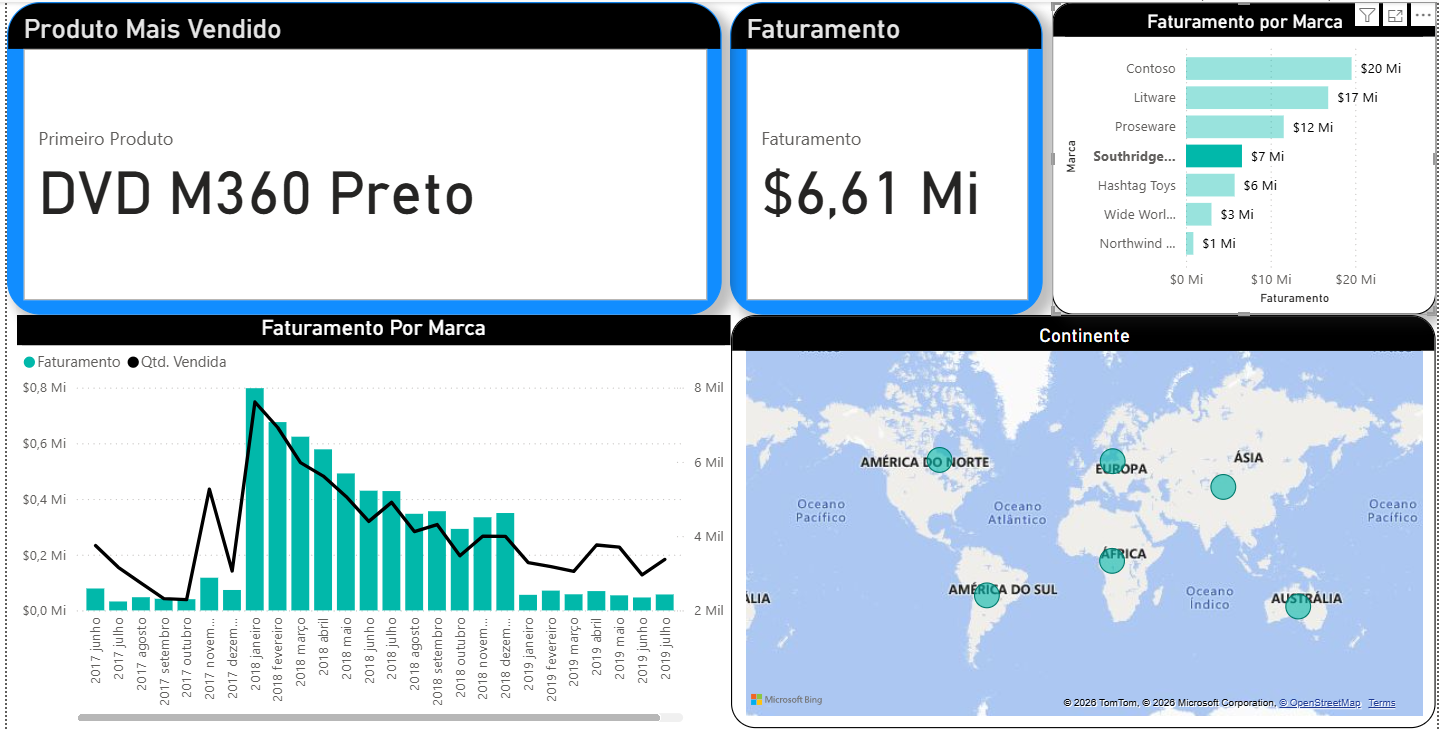

What the dashboard file says about the page in this screenshot:
{"tool":"powerbi","page":{"name":"Relatório de Vendas","canvas":[1280,720],"ordinal":0},"visuals":[{"type":"cardVisual","title":"Faturamento","fields":{"Data":["Sum(BaseVendas.Faturamento)"]},"box":[647.5,0,280.3,280.3],"z":0},{"type":"barChart","fields":{"Y":["Sum(BaseVendas.Faturamento)"],"Category":["BaseVendas.Marca"]},"box":[935.8,0,343.9,280.3],"z":1000},{"type":"cardVisual","title":"Produto Mais Vendido","fields":{"Data":["Min(BaseVendas.Produto)"]},"box":[0,0,640.3,280.3],"z":2000},{"type":"lineStackedColumnComboChart","title":"Faturamento Por Marca","fields":{"Category":["BaseVendas.Data da Venda.Variation.Hierarquia de datas.Ano","BaseVendas.Data da Venda.Variation.Hierarquia de datas.Mês"],"Y":["Sum(BaseVendas.Faturamento)"],"Y2":["Sum(BaseVendas.Qtd. Vendida)"]},"box":[9,280.3,638.5,369.9],"z":3000},{"type":"map","fields":{"Category":["BaseVendas.Continente"]},"box":[648.4,280.3,631.3,369.9],"z":4000}]}

Visuals, with their boxes on the page's 1280x720 design canvas (x1, y1, x2, y2). These are canvas units, not pixel positions in the 1439x731 screenshot, which may show the page scaled, cropped or inside an application window:
"Faturamento" cardVisual: x1=648 y1=0 x2=928 y2=280
barChart - Sum(BaseVendas.Faturamento) x BaseVendas.Marca: x1=936 y1=0 x2=1280 y2=280
"Produto Mais Vendido" cardVisual: x1=0 y1=0 x2=640 y2=280
"Faturamento Por Marca" lineStackedColumnComboChart: x1=9 y1=280 x2=648 y2=650
map - BaseVendas.Continente: x1=648 y1=280 x2=1280 y2=650
